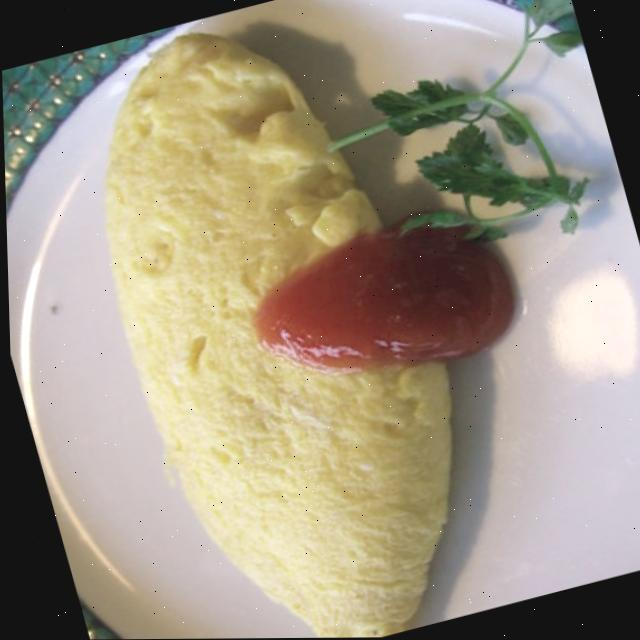鸡蛋料理: (33, 0, 596, 640)
